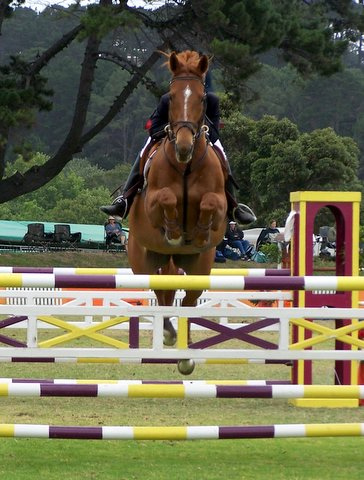person: (100, 69, 259, 229)
